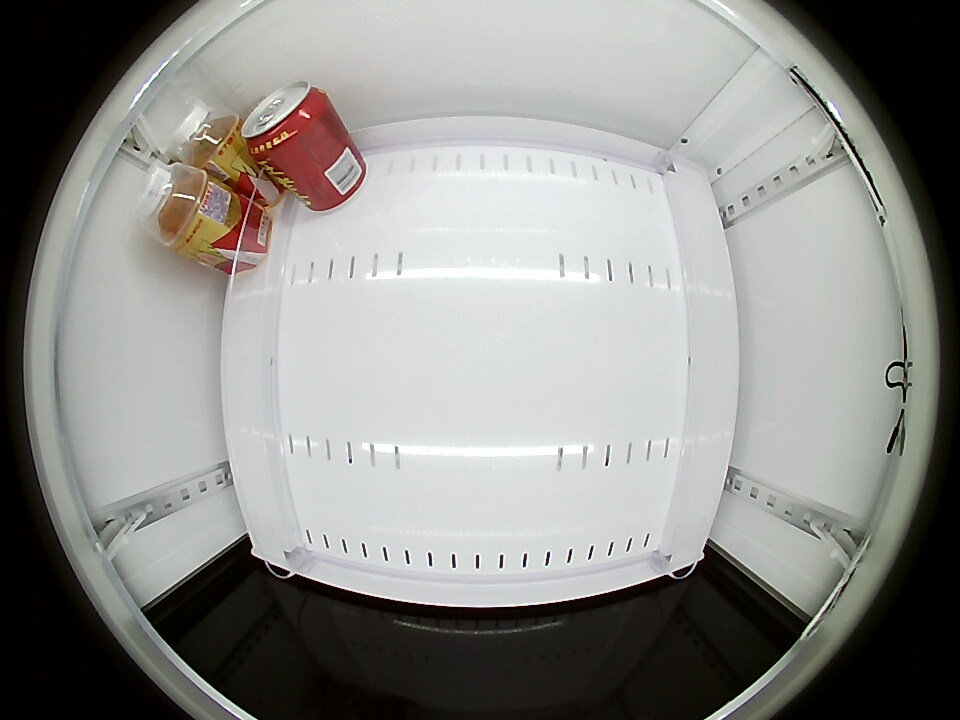dongpeng-b: (135, 163, 212, 248), (172, 103, 240, 168)
wanglaoji-c: (241, 81, 329, 159)
